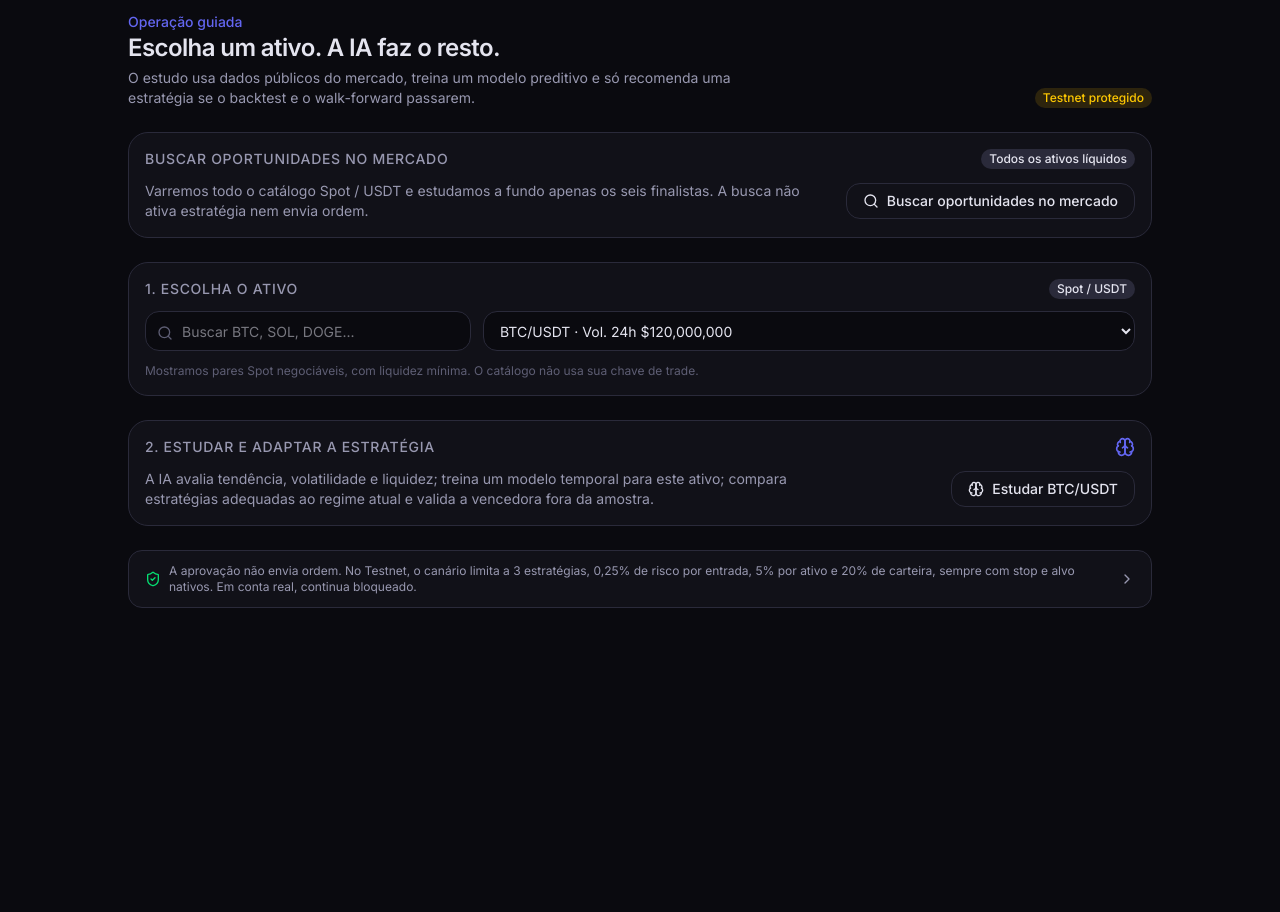
Test: OperarPage › studies the selected asset before allowing Testnet activation
Click the button "Estudar BTC/USDT" at {"x": 1043, "y": 489}, box 951,471 -> 1135,507
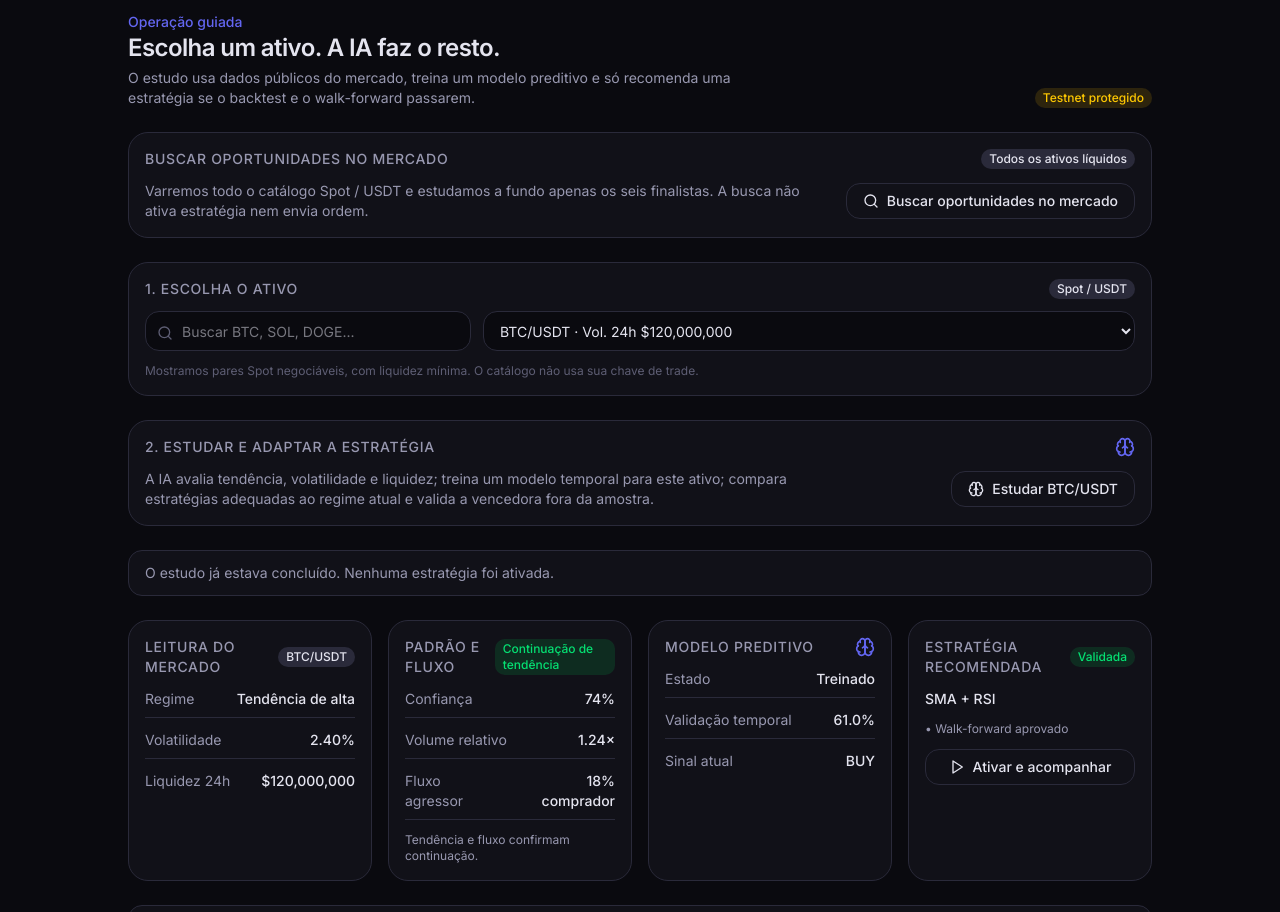
Now the heading "Modelo preditivo" is shown, box 665,637 -> 814,657
Now the text "SMA + RSI" is shown, box 925,690 -> 996,707
Now the button "Ativar e acompanhar" is shown, box 925,749 -> 1135,785
